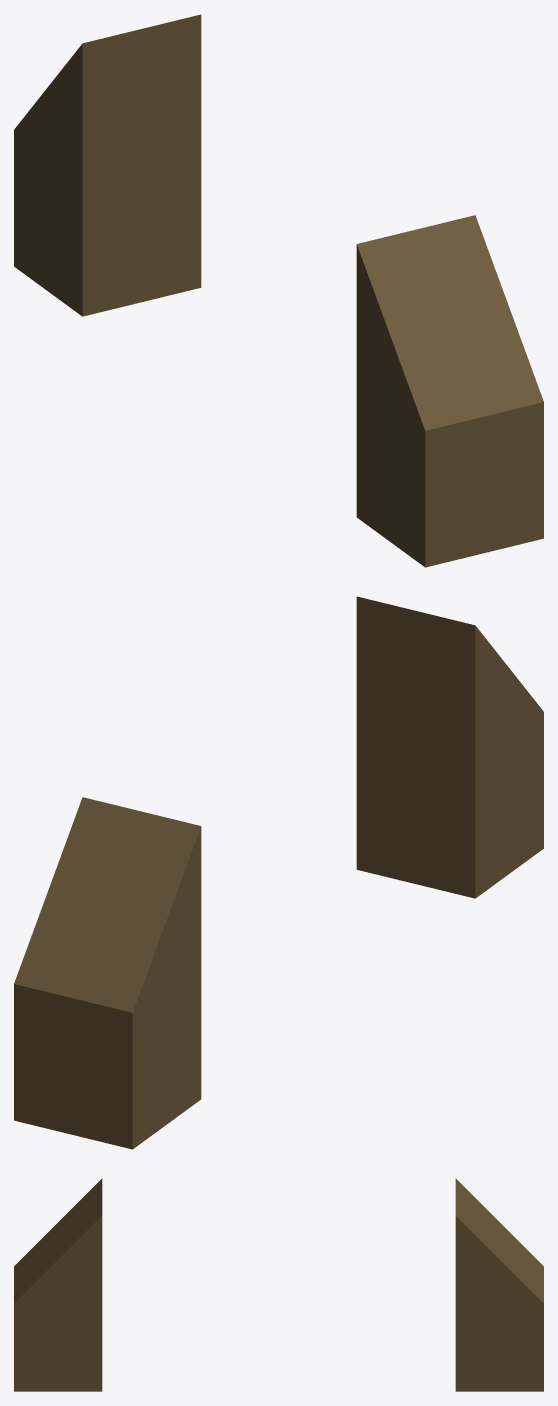
File: Wood_Fence_Gate_01.obj
The picture shows the model from 3 angles, top to bottom: view 1: azimuth 30°, elevation 25°; view 2: azimuth 150°, elevation 25°; view 3: azimuth 270°, elevation 25°; orthographic projection. The views are drawn at different scales.
Visible parts, largest first — view 1: Mesh2_Wood_Fence_Gate_Model, Mesh1_Wood_Fence_Gate_Model; view 2: Mesh1_Wood_Fence_Gate_Model, Mesh2_Wood_Fence_Gate_Model; view 3: Mesh1_Wood_Fence_Gate_Model, Mesh2_Wood_Fence_Gate_Model.
Boxes of the visible parts, <box> form: Mesh2_Wood_Fence_Gate_Model: <box>356,215,543,567</box>; Mesh1_Wood_Fence_Gate_Model: <box>14,14,201,316</box>; Mesh1_Wood_Fence_Gate_Model: <box>14,797,201,1149</box>; Mesh2_Wood_Fence_Gate_Model: <box>356,596,543,898</box>; Mesh1_Wood_Fence_Gate_Model: <box>455,1178,543,1391</box>; Mesh2_Wood_Fence_Gate_Model: <box>14,1178,102,1391</box>.
Bounding box in the file's own units: 0.5 × 1.1 × 3.
